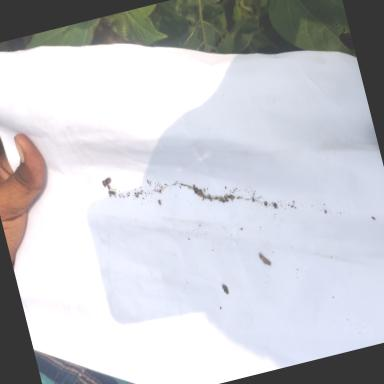pbw: (258, 251, 272, 267)
